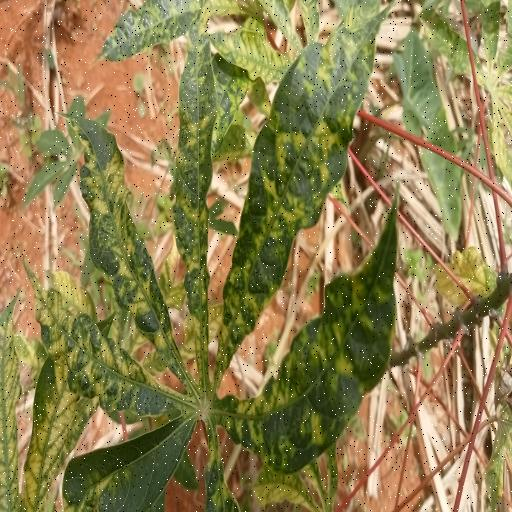Cassava_Mosaic: (21, 19, 401, 512)
